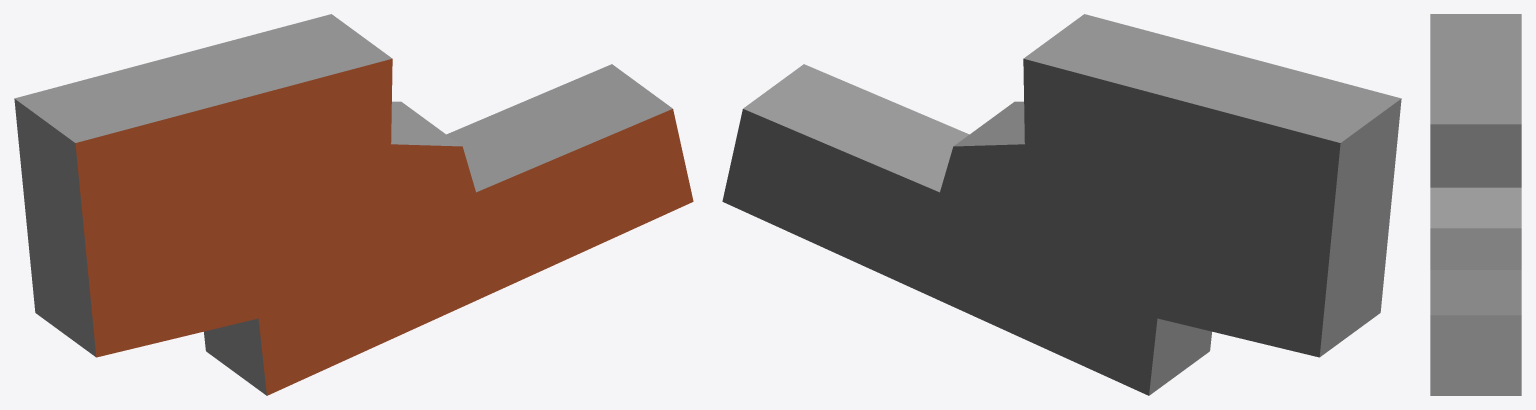
Rendered from construction_1212_assumed_A_Casa_h6m.obj.
3 views of the same model, side by side, from view 1: azimuth 30°, elevation 25°; view 2: azimuth 150°, elevation 25°; view 3: azimuth 270°, elevation 25° (orthographic). The views are drawn at different scales.
Visible parts, largest first — view 1: construction_1212_assumed_A_Casa; view 2: construction_1212_assumed_A_Casa; view 3: construction_1212_assumed_A_Casa.
Boxes of the visible parts, left/top/right/bottom form: construction_1212_assumed_A_Casa: left=14, top=14, right=693, bottom=395; construction_1212_assumed_A_Casa: left=722, top=14, right=1401, bottom=395; construction_1212_assumed_A_Casa: left=1430, top=14, right=1521, bottom=395.
Bounding box in the file's own units: 35.08 × 16.63 × 6.
